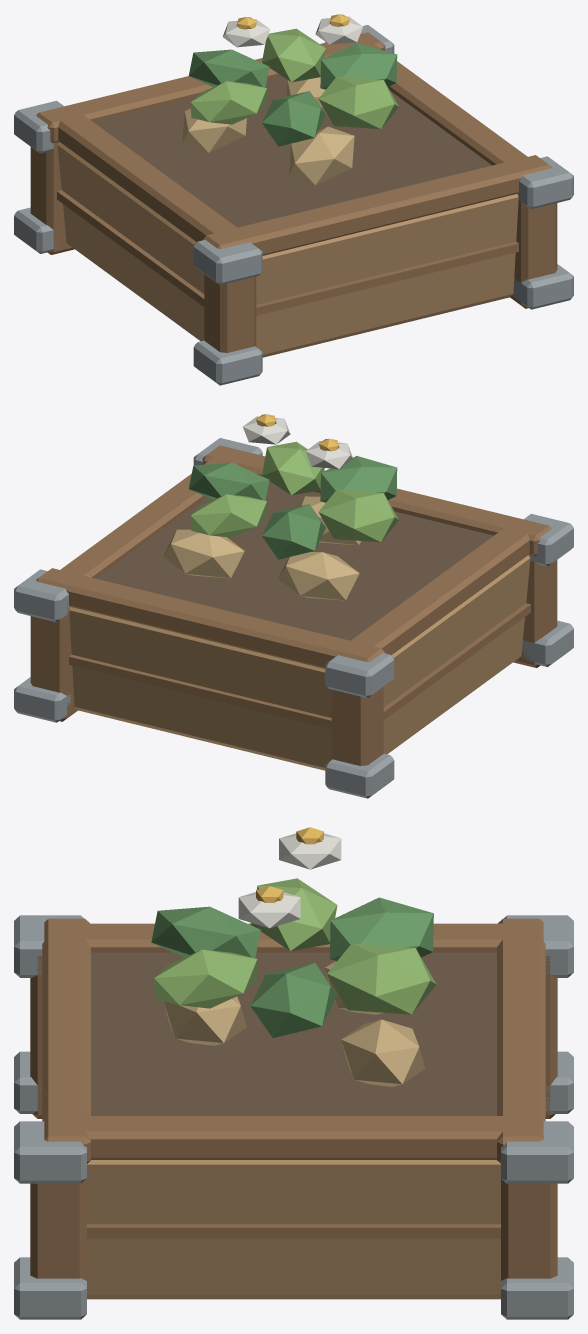
File: BUILD0035_PlanterBox_Potato.fbx
3 views of the same model, one above another, from view 1: azimuth 30°, elevation 25°; view 2: azimuth 150°, elevation 25°; view 3: azimuth 270°, elevation 25° (orthographic). The views are drawn at different scales.
Visible parts, largest first — view 1: BUILD0035_PlanterBox_Potato, CropFoliageRoot.001, CropFruitRoot.001; view 2: BUILD0035_PlanterBox_Potato, CropFoliageRoot.001, CropFruitRoot.001; view 3: BUILD0035_PlanterBox_Potato, CropFoliageRoot.001, CropFruitRoot.001.
Part boxes in pixels (x1,y1,x2,y2): BUILD0035_PlanterBox_Potato: (14,25,573,385); CropFoliageRoot.001: (188,14,398,146); CropFruitRoot.001: (182,77,354,185); BUILD0035_PlanterBox_Potato: (14,438,573,798); CropFoliageRoot.001: (189,414,398,559); CropFruitRoot.001: (163,496,360,600); BUILD0035_PlanterBox_Potato: (14,915,573,1319); CropFoliageRoot.001: (151,827,436,1037); CropFruitRoot.001: (163,960,425,1086).
Size of the model in its own units: 1.38 by 0.965 by 1.38.
